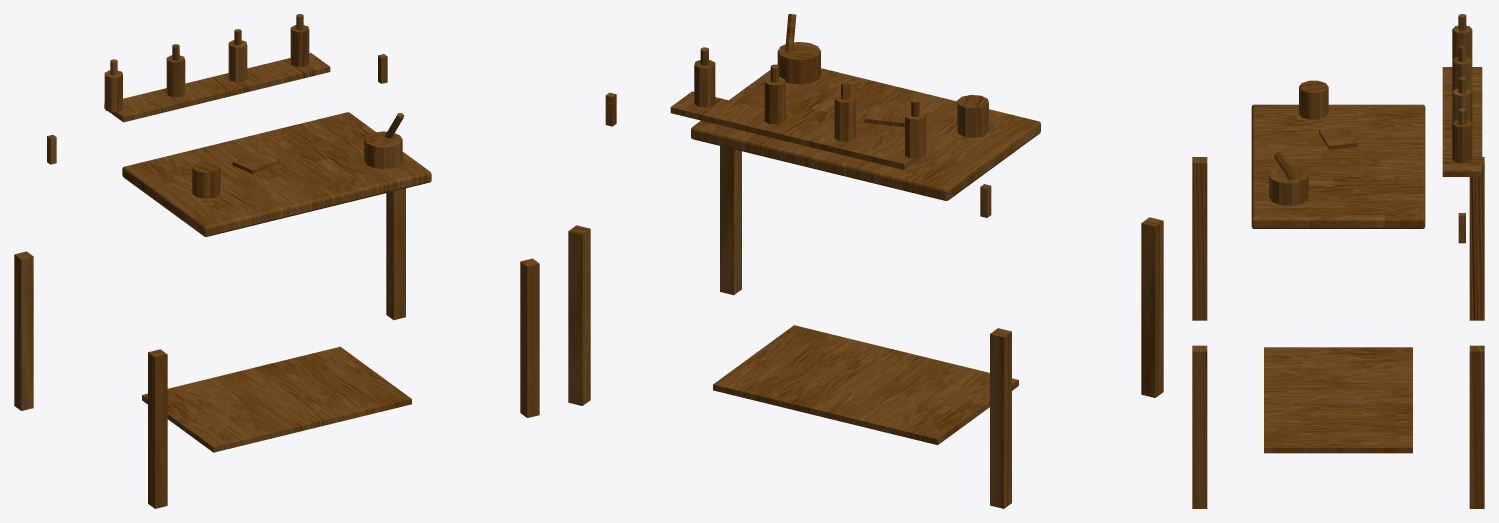
The model's file is alchemy_table.fbx.
3 views of the same model, side by side, from view 1: azimuth 30°, elevation 25°; view 2: azimuth 150°, elevation 25°; view 3: azimuth 270°, elevation 25° (orthographic). The views are drawn at different scales.
Parts seen in each view (by area): view 1: alchemy_table; view 2: alchemy_table; view 3: alchemy_table.
Boxes of the visible parts, x1,y1,x2,y2 form: alchemy_table: (14, 14, 539, 508); alchemy_table: (568, 14, 1163, 508); alchemy_table: (1192, 14, 1484, 508).
Bounding box in the file's own units: 0.93 × 0.765 × 0.59.
Materials: 1 (1 with a texture image).
